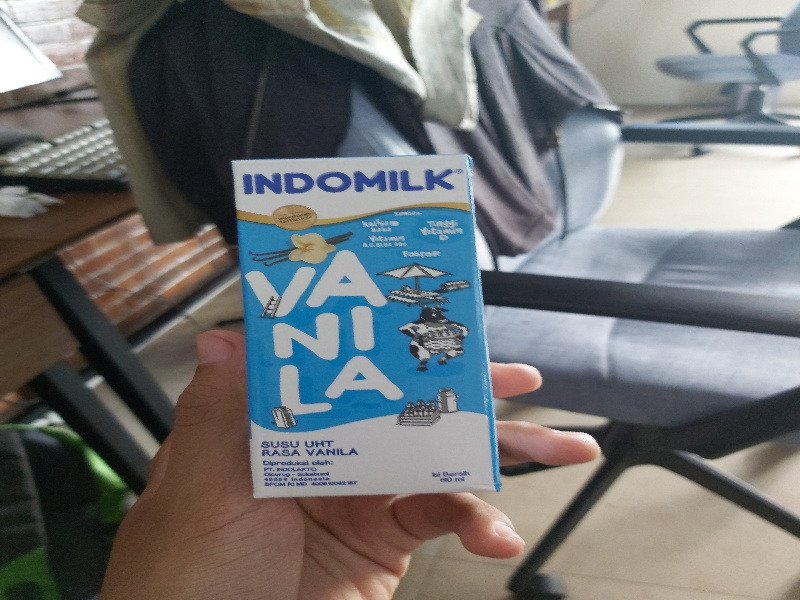vanilla: (231, 155, 504, 498)
